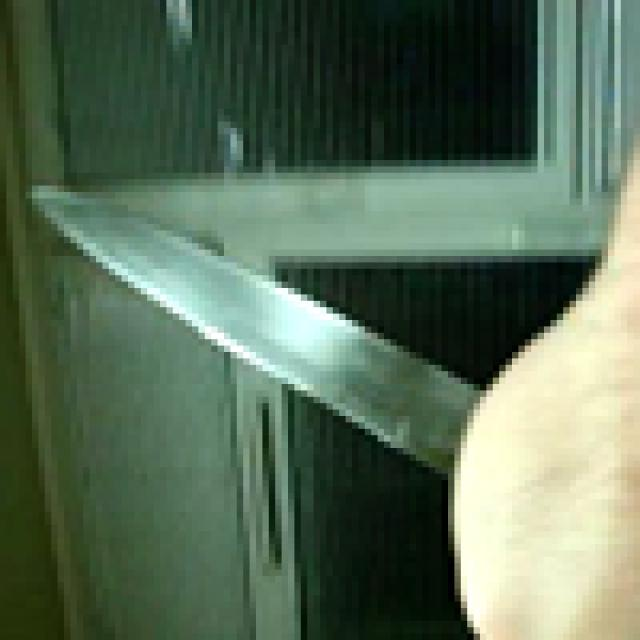Weapons: (14, 134, 494, 498)
